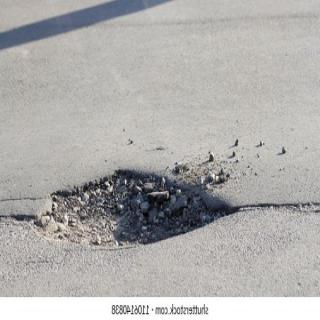pothole: (23, 170, 314, 248)
